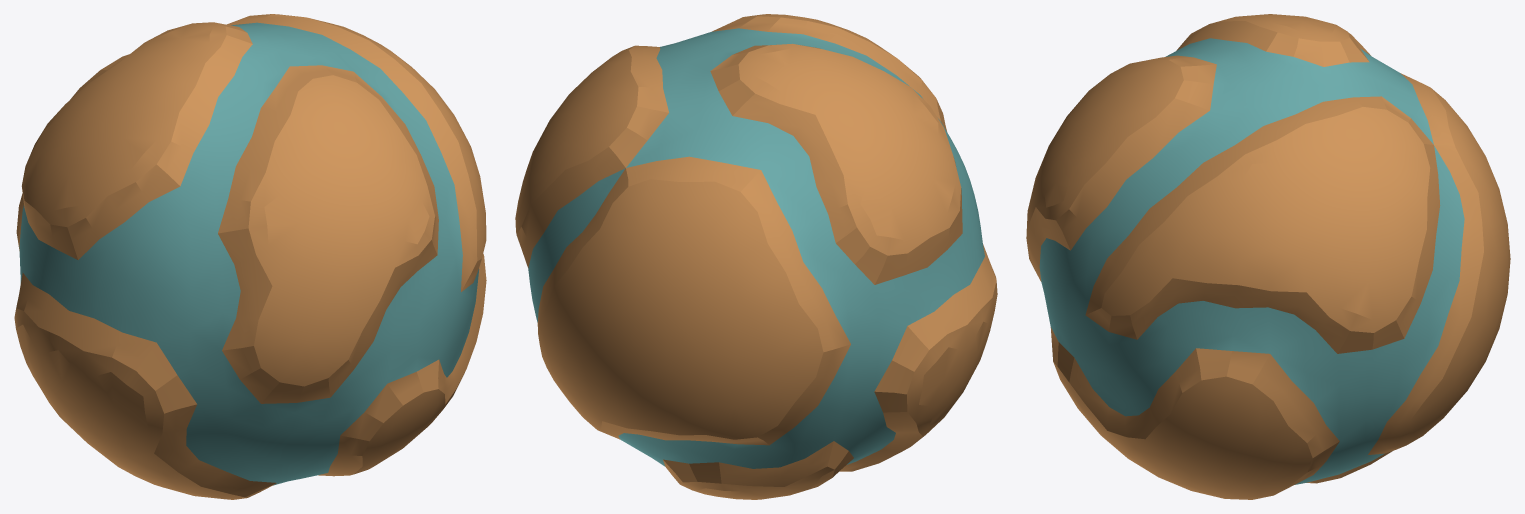
File: planet_2.glb
3 views of the same model, side by side, from view 1: azimuth 30°, elevation 25°; view 2: azimuth 150°, elevation 25°; view 3: azimuth 270°, elevation 25° (orthographic).
Parts seen in each view (by area): view 1: Planet_2; view 2: Planet_2; view 3: Planet_2.
Part boxes in pixels (x1=…): Planet_2: x1=14, y1=14, x2=486, y2=499; Planet_2: x1=515, y1=14, x2=997, y2=499; Planet_2: x1=1026, y1=14, x2=1510, y2=499.
Size of the model in its own units: 3.8 by 3.82 by 3.84.
Materials: 1 (1 with a texture image).
